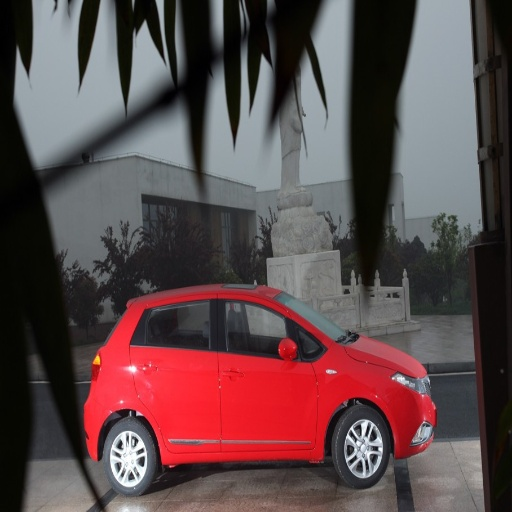back_right_door: (132, 296, 220, 452)
front_right_door: (220, 296, 324, 445)
